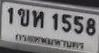letters: (32, 10, 44, 28), (18, 9, 29, 27), (62, 14, 72, 32), (74, 16, 84, 34), (86, 18, 96, 36), (7, 7, 14, 25), (52, 13, 58, 30)
province: (15, 34, 84, 49)
